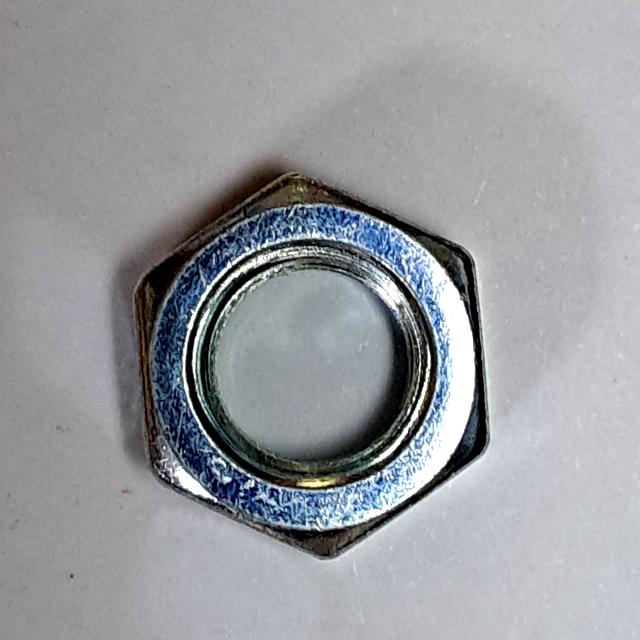Excellent: (111, 150, 496, 583)
